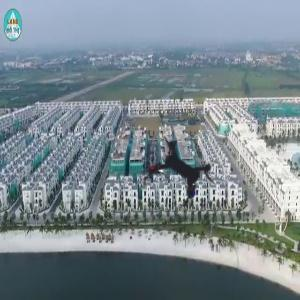drone: (118, 107, 250, 239)
